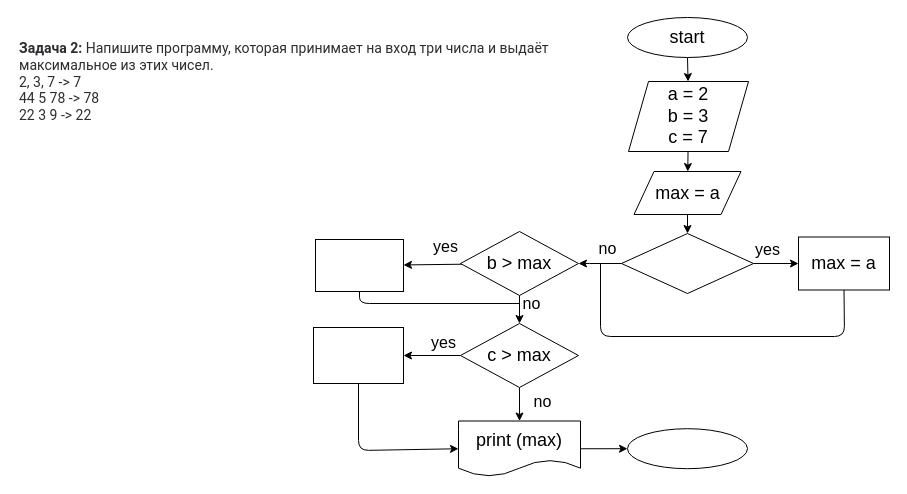
Image size: 907x494. Some labels were removed from this diagram. Each missing label, with the centre of its shape:
"a > max" belongs at pixel 687 263.
"end" belongs at pixel 687 448.
"max = b" belongs at pixel 359 265.
"max = c" belongs at pixel 358 355.
